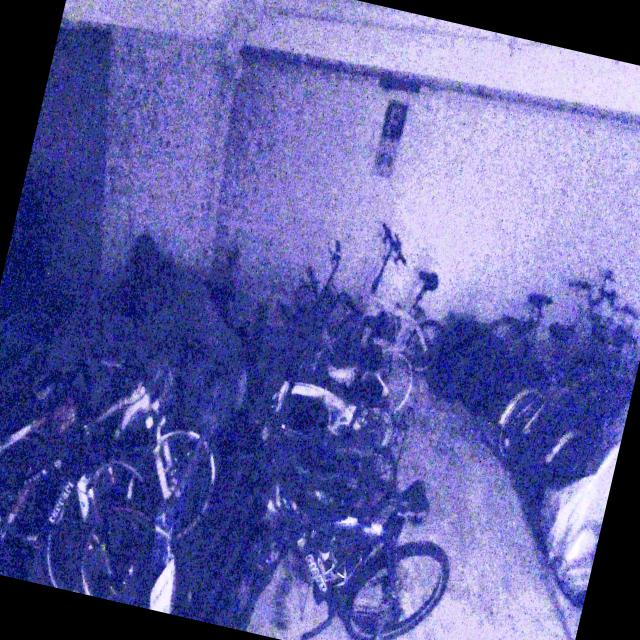bike: (0, 318, 242, 554), (222, 444, 470, 640), (487, 270, 640, 484), (324, 215, 469, 382)
